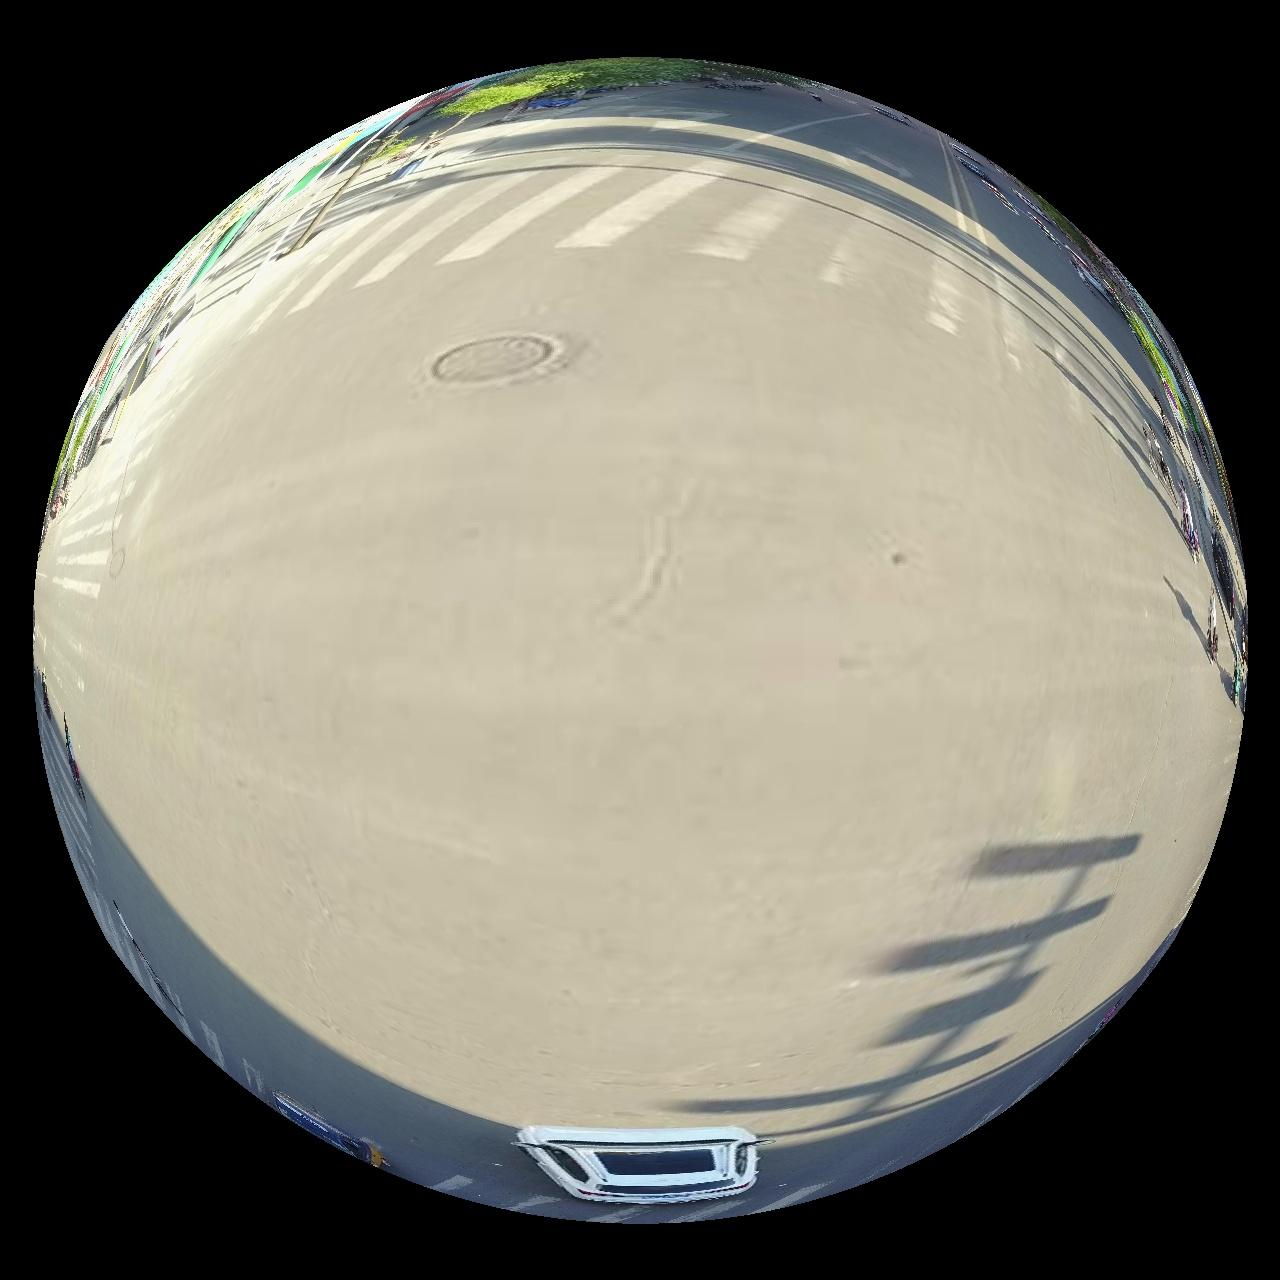cars: (519, 1129, 758, 1206)
trees: (433, 56, 723, 115)
